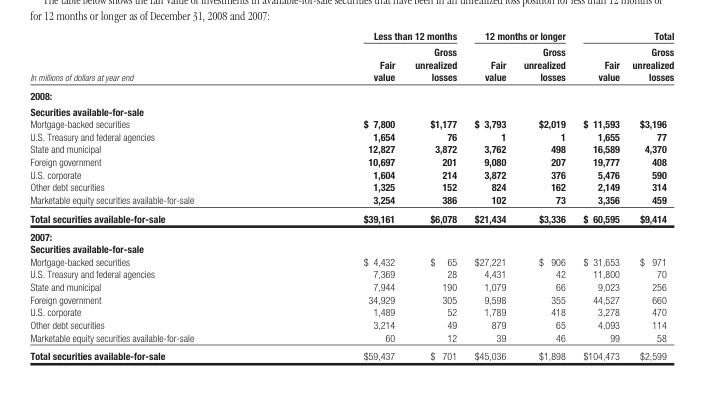table: (29, 29, 673, 361)
table column: (29, 29, 277, 361), (277, 29, 404, 361), (404, 29, 464, 361), (514, 29, 573, 361), (573, 29, 625, 361), (464, 29, 514, 361), (625, 29, 673, 361)
table column header: (29, 29, 673, 86)
table projected row header: (29, 86, 673, 103), (29, 226, 673, 242), (29, 103, 673, 117), (29, 242, 673, 254)
table row: (29, 43, 673, 86), (29, 208, 673, 226), (29, 86, 673, 103), (29, 192, 673, 208), (29, 226, 673, 242), (29, 330, 673, 346), (29, 346, 673, 361), (29, 29, 673, 43), (29, 103, 673, 117), (29, 129, 673, 142), (29, 154, 673, 167), (29, 167, 673, 180), (29, 254, 673, 267), (29, 267, 673, 280), (29, 292, 673, 305), (29, 317, 673, 330), (29, 117, 673, 129), (29, 142, 673, 154), (29, 180, 673, 192), (29, 242, 673, 254), (29, 280, 673, 292), (29, 305, 673, 317)
table spanning cell: (29, 29, 277, 86), (277, 29, 464, 43), (464, 29, 573, 43), (573, 29, 673, 43)
